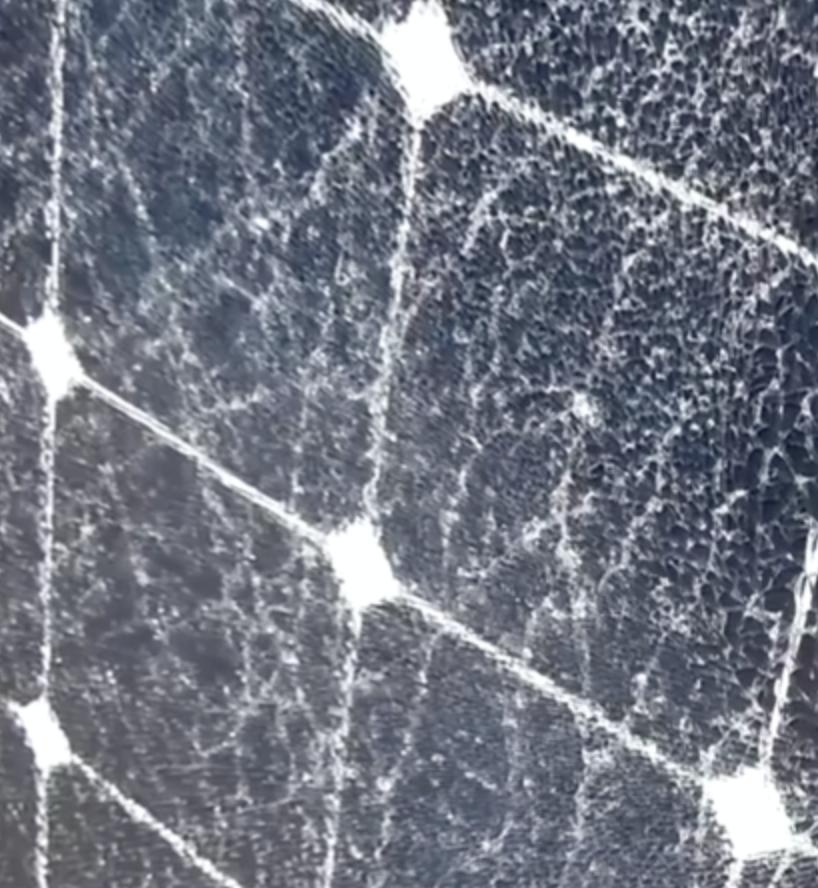Crack: (3, 9, 817, 887)
